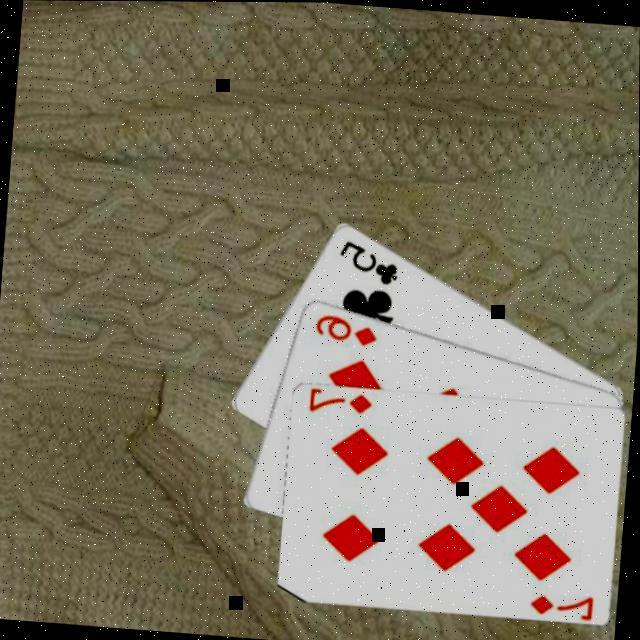5C: (334, 237, 403, 289)
6D: (311, 311, 381, 350)
7D: (306, 388, 377, 419), (527, 589, 597, 620)
